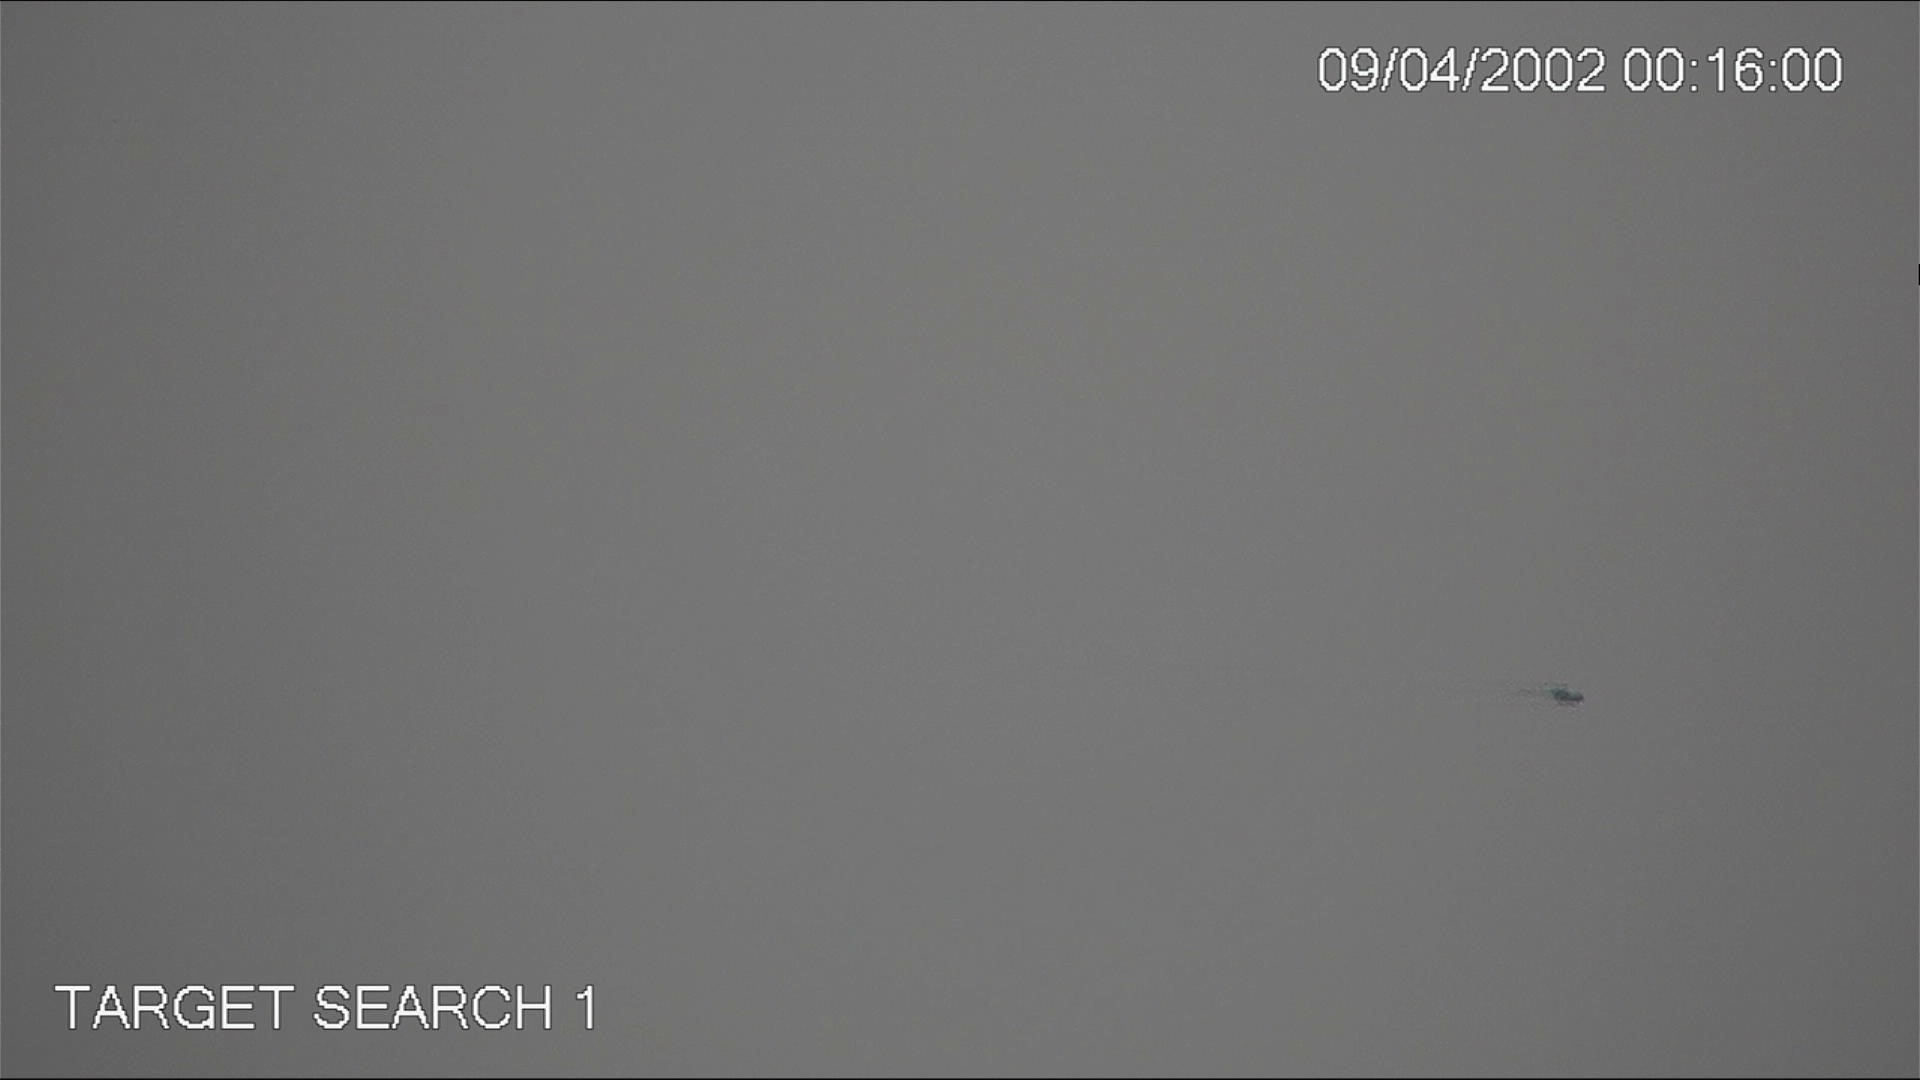SU_30: (1552, 684, 1584, 705)
